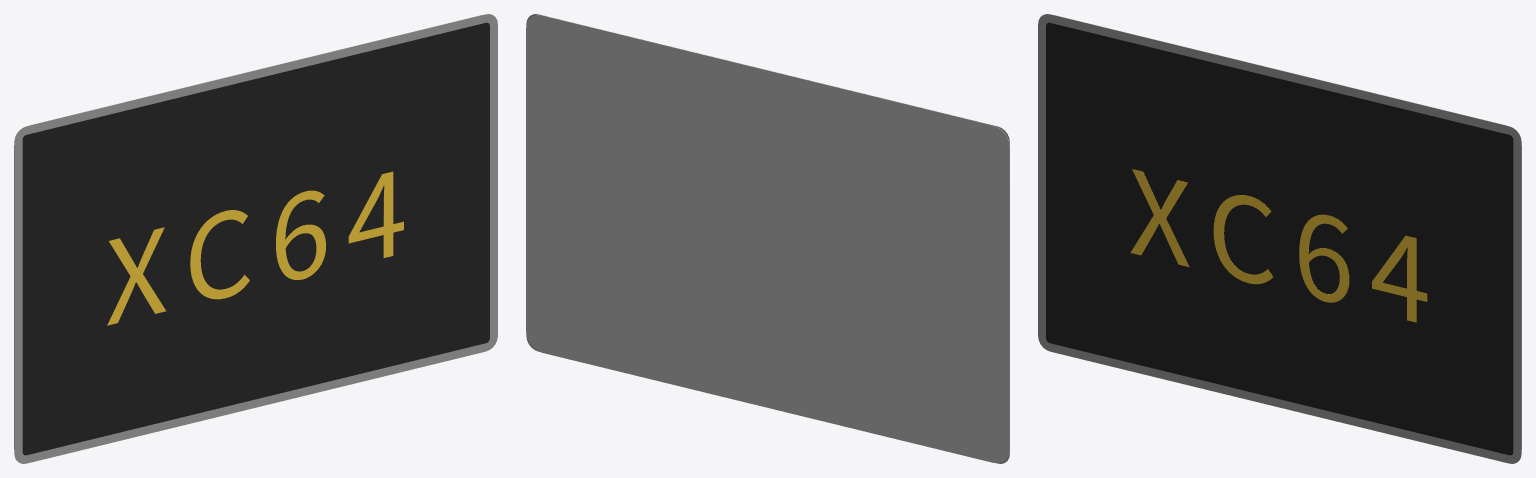
3 views of the same model, side by side, from view 1: azimuth 30°, elevation 25°; view 2: azimuth 150°, elevation 25°; view 3: azimuth 330°, elevation 25° (orthographic).
Parts seen in each view (by area): view 1: XC64_fond01, XC64_cadre00, XC64_txt02, XC64_dos; view 2: XC64_dos, XC64_cadre00; view 3: XC64_fond01, XC64_cadre00, XC64_txt02, XC64_dos.
Part boxes in pixels (<box>): XC64_fond01: <box>22,22,489,455</box>; XC64_cadre00: <box>14,14,497,463</box>; XC64_txt02: <box>107,171,403,325</box>; XC64_dos: <box>14,15,481,449</box>; XC64_dos: <box>526,15,1009,463</box>; XC64_cadre00: <box>526,14,1009,463</box>; XC64_fond01: <box>1046,22,1513,455</box>; XC64_cadre00: <box>1038,14,1521,463</box>; XC64_txt02: <box>1130,169,1427,322</box>; XC64_dos: <box>1054,15,1521,449</box>.
Bounding box in the file's own units: 1.2 × 0.8 × 0.0025.
